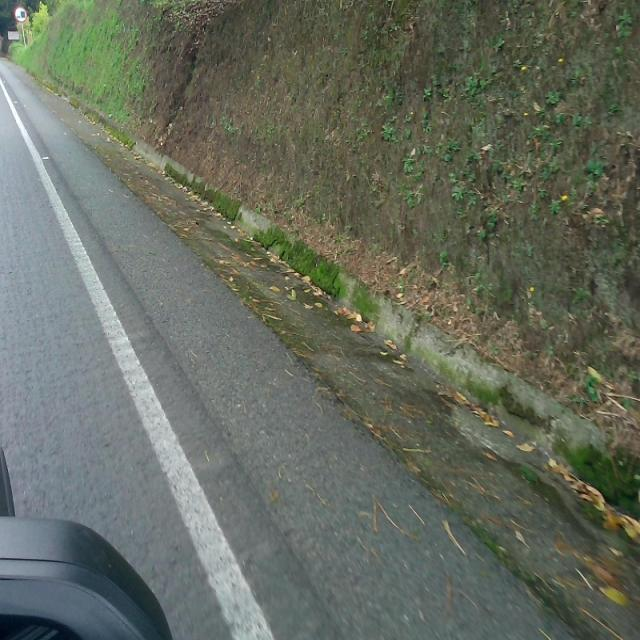DITCH: (5, 53, 638, 638), (1, 107, 638, 638)
